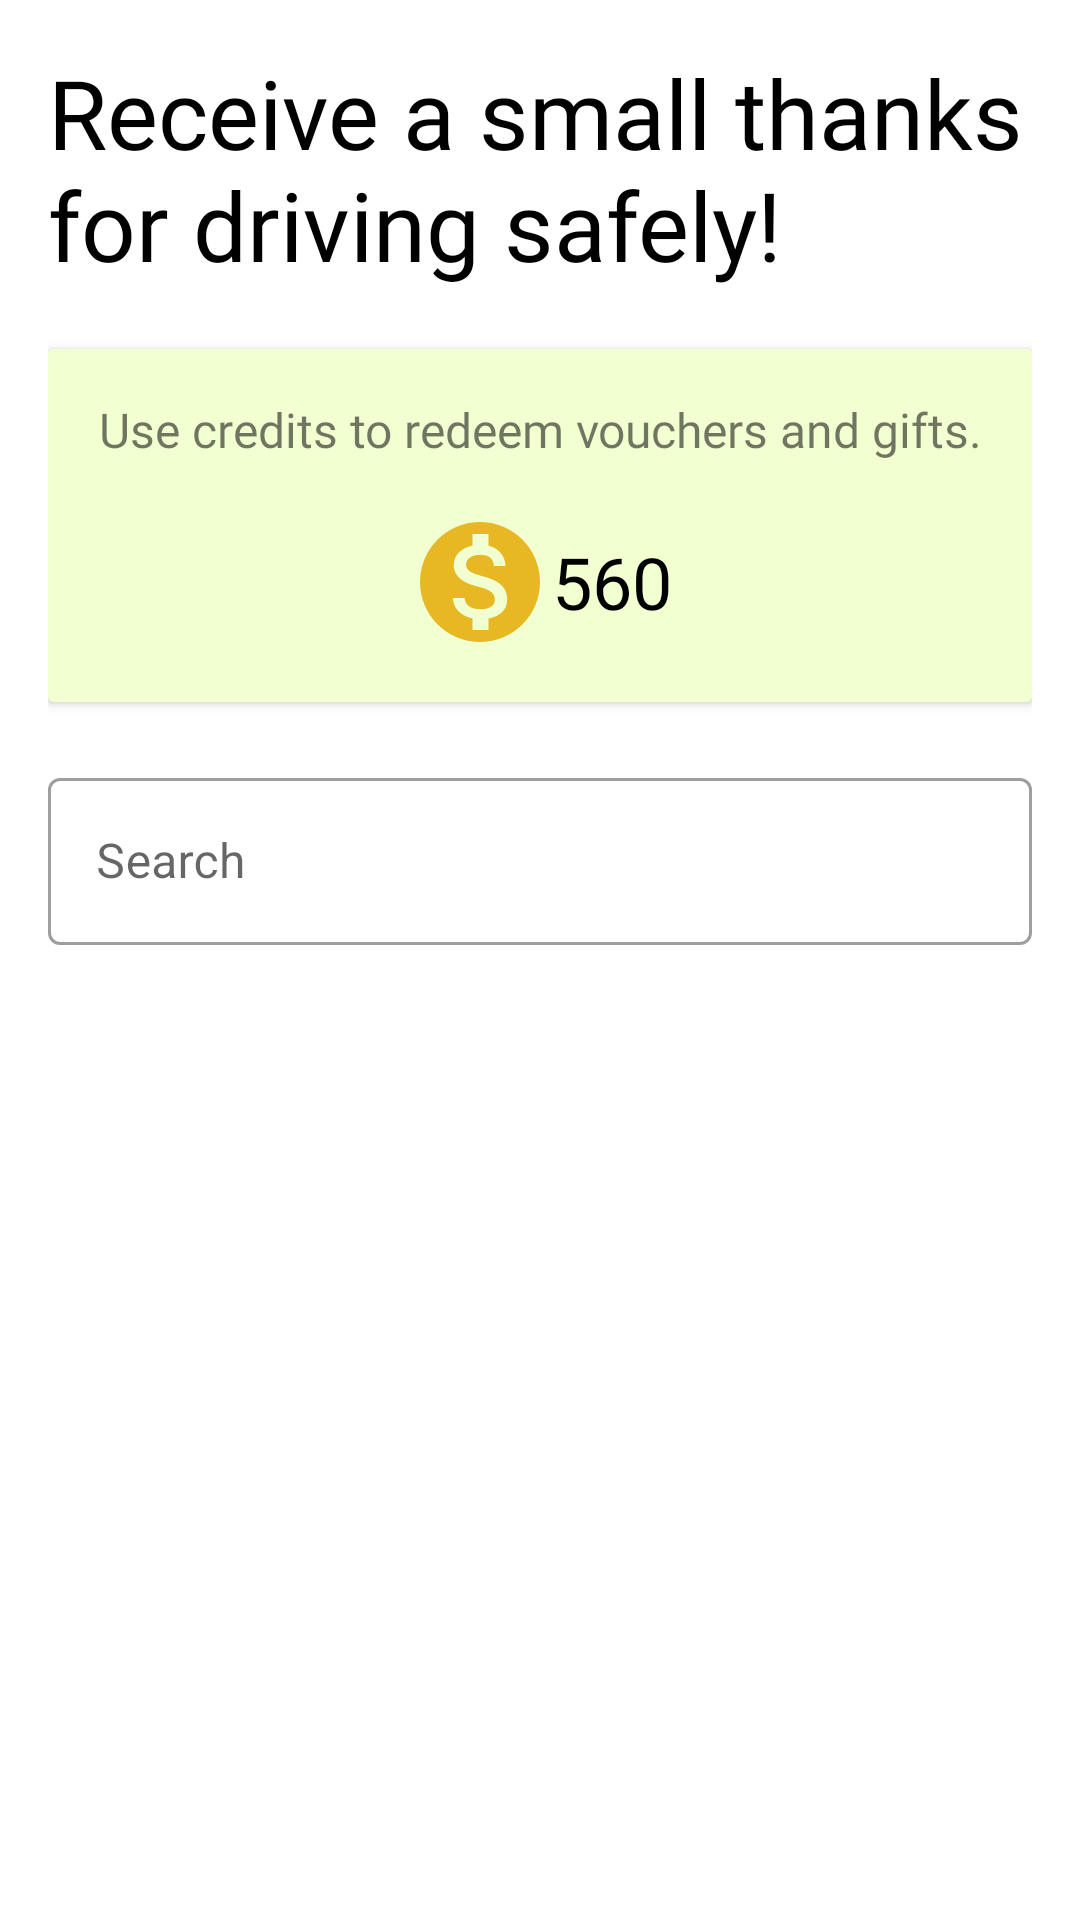

Locate icon controls on the screen. Image size 1080 x 1920, boxes as (x1, y1, x2, y2).
monetization on: (420, 522, 540, 642)
